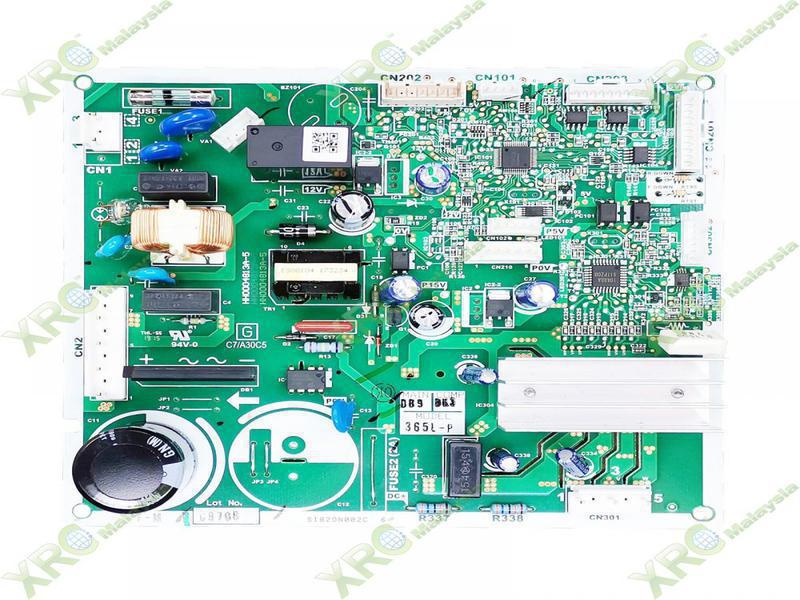circuit_board: (57, 67, 731, 535)
